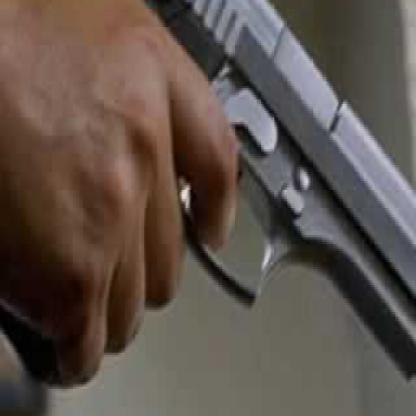gun: (47, 0, 415, 405)
